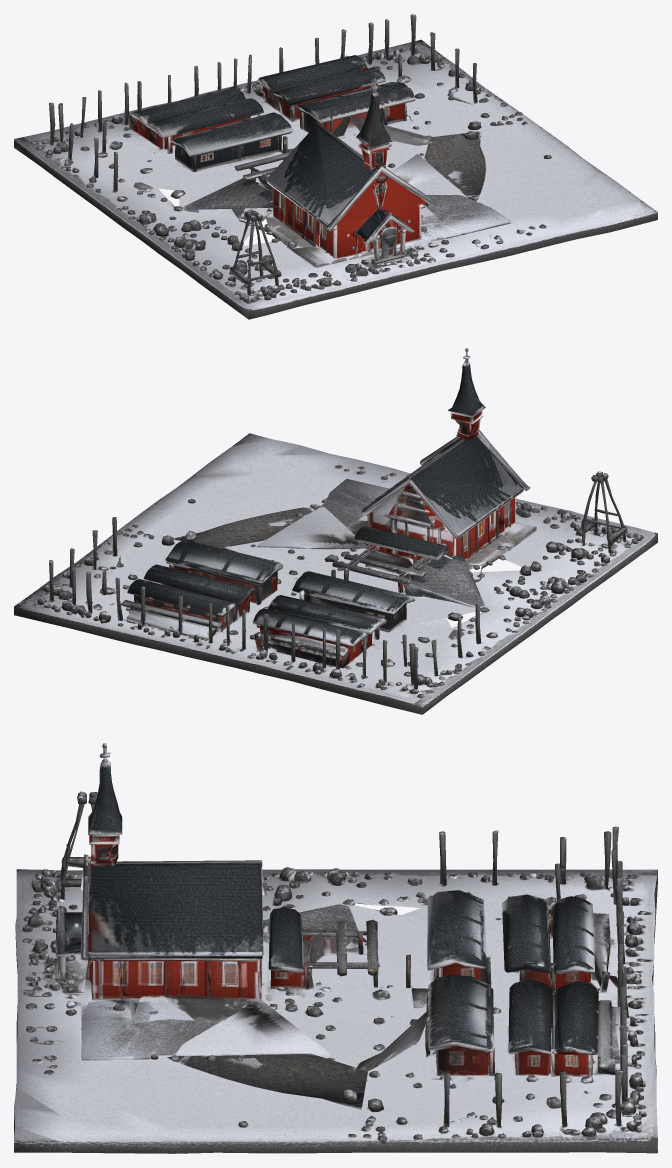
The model's file is longyearbyenkirche-web.glb.
3 renders of one model, top to bottom at view 1: azimuth 30°, elevation 25°; view 2: azimuth 150°, elevation 25°; view 3: azimuth 270°, elevation 25°, orthographic. The views are drawn at different scales.
Bounding box in the file's own units: 1 × 0.4199 × 1.
Materials: 1 (1 with a texture image).
